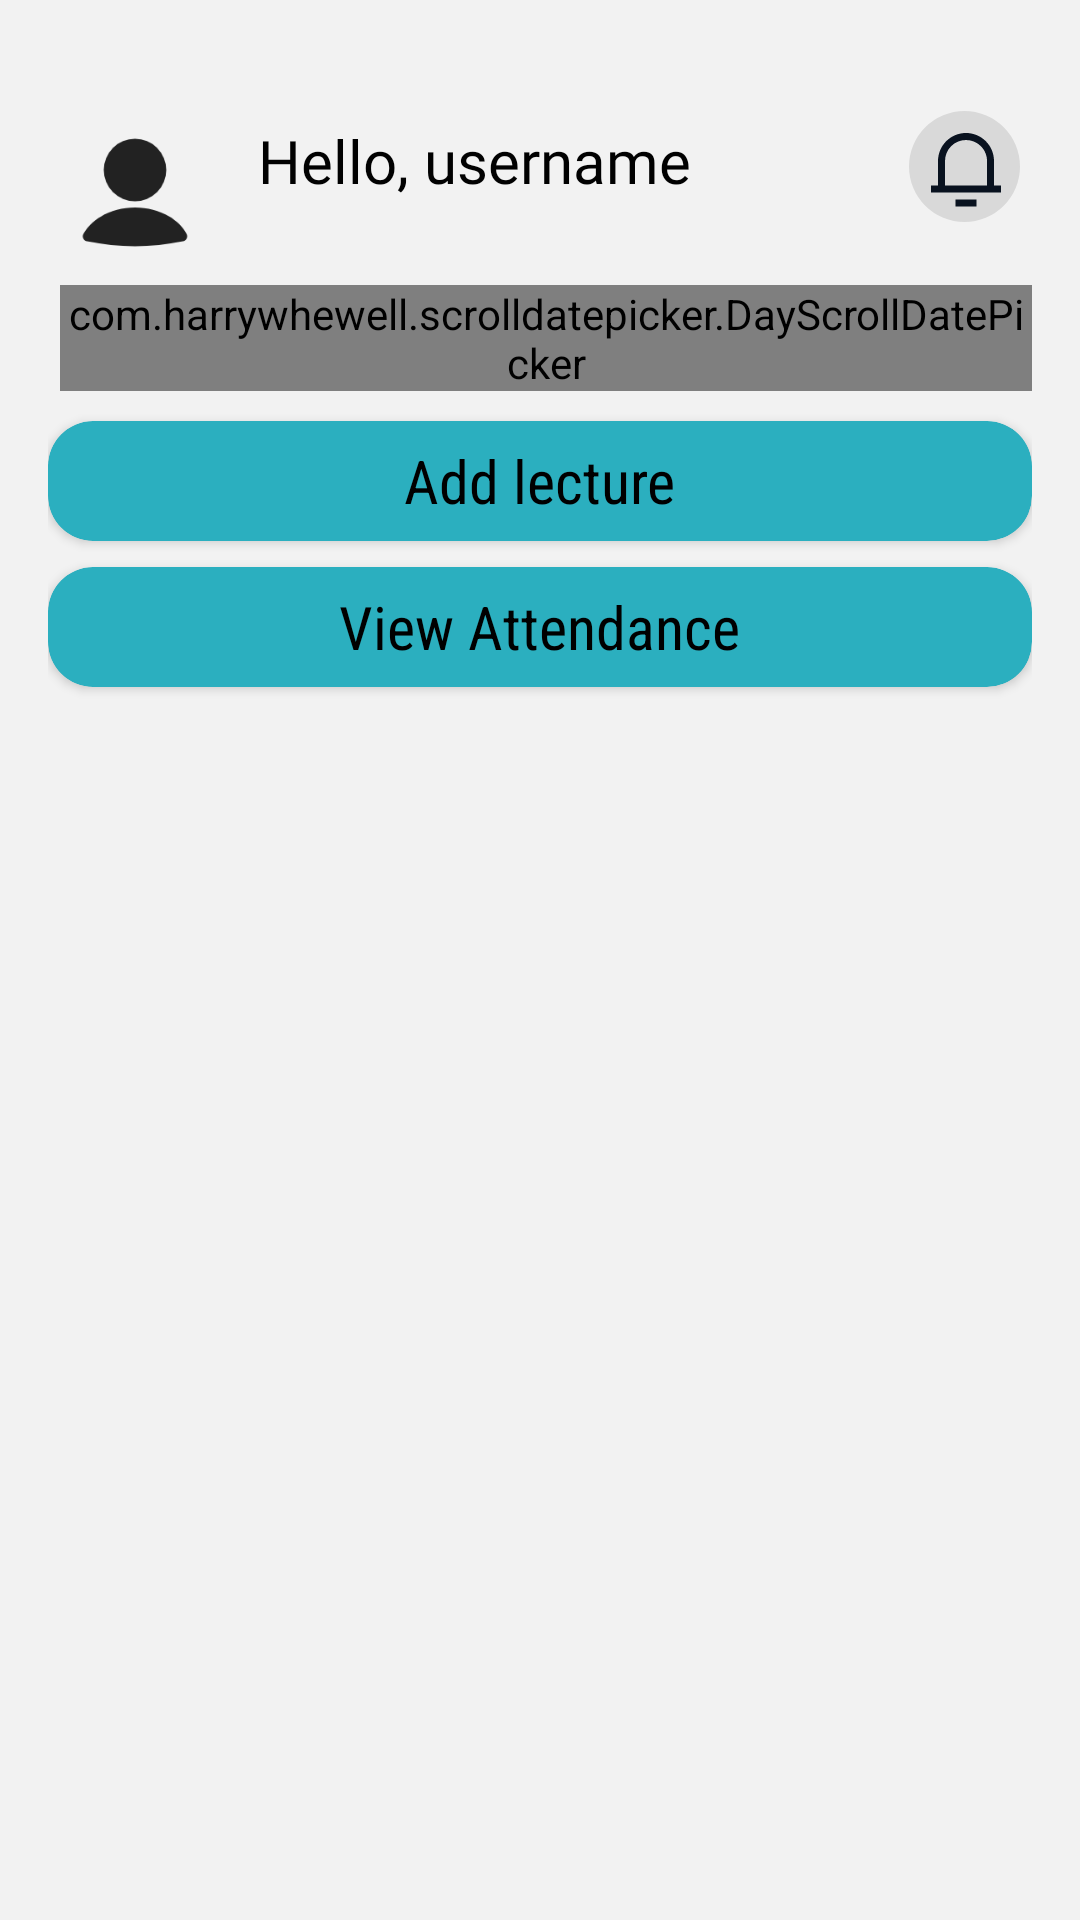

Named icons in this screenshot (1080w x 1920h) and their bounding boxes, rect(x1, y1, x2, y2):
notification: rect(909, 111, 1020, 222)
profile: rect(82, 138, 188, 247)
